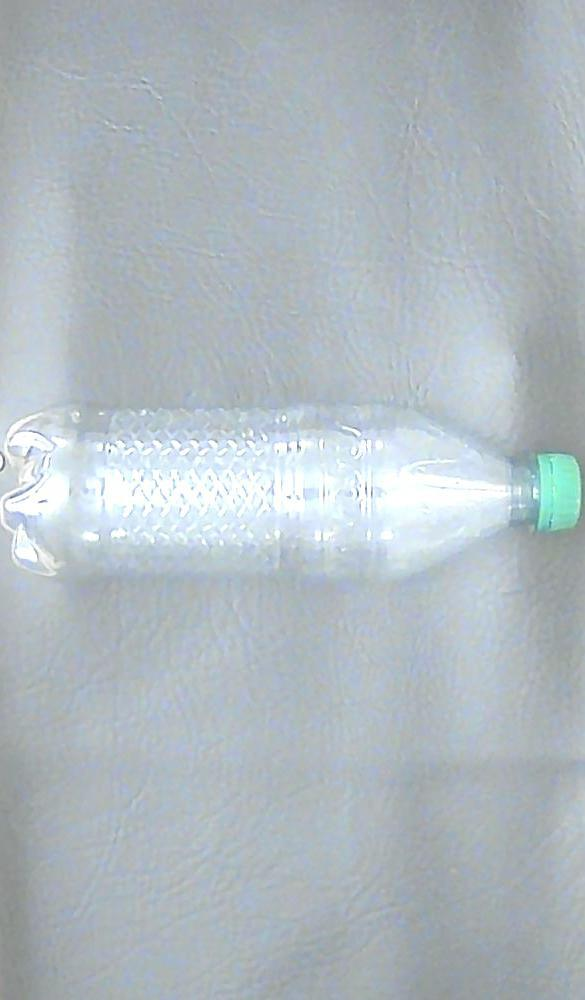BIODEGRADABLE: (4, 392, 585, 592)
